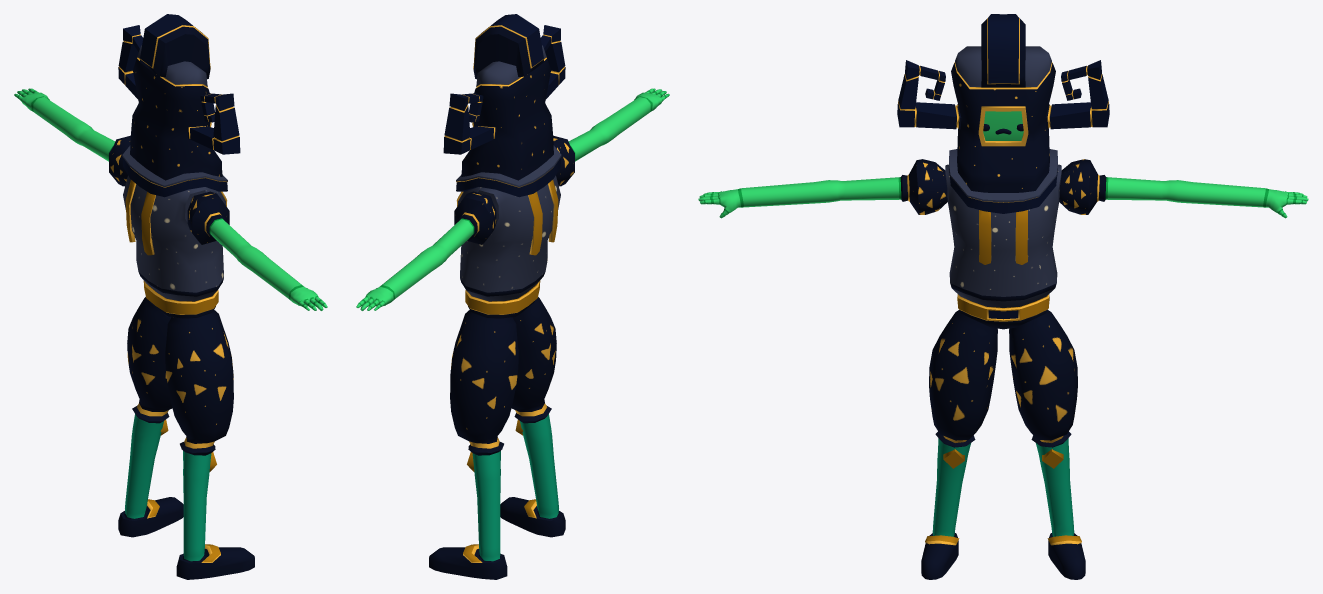
The model's file is Cosmic_Dweller.glb.
3 renders of one model, left to right at view 1: azimuth 30°, elevation 25°; view 2: azimuth 150°, elevation 25°; view 3: azimuth 270°, elevation 25°, orthographic.
Parts seen in each view (by area): view 1: _100Avatars_124_CosmicDweller; view 2: _100Avatars_124_CosmicDweller; view 3: _100Avatars_124_CosmicDweller.
Boxes of the visible parts, left/top/right/bottom form: _100Avatars_124_CosmicDweller: left=14, top=14, right=327, bottom=579; _100Avatars_124_CosmicDweller: left=356, top=14, right=669, bottom=579; _100Avatars_124_CosmicDweller: left=698, top=14, right=1308, bottom=579.
Size of the model in its own units: 0.7177 by 4.36 by 4.46.
Materials: 1 (1 with a texture image).
